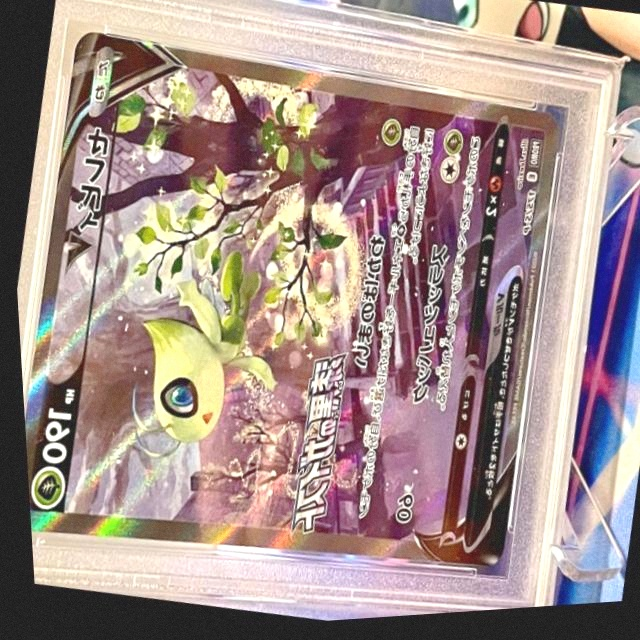card: (19, 33, 558, 574)
